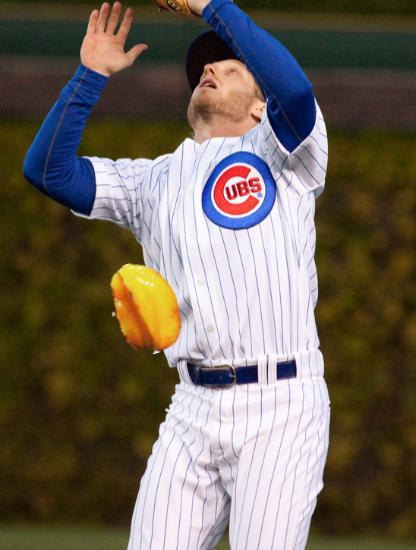Carambula: (97, 261, 191, 355)
